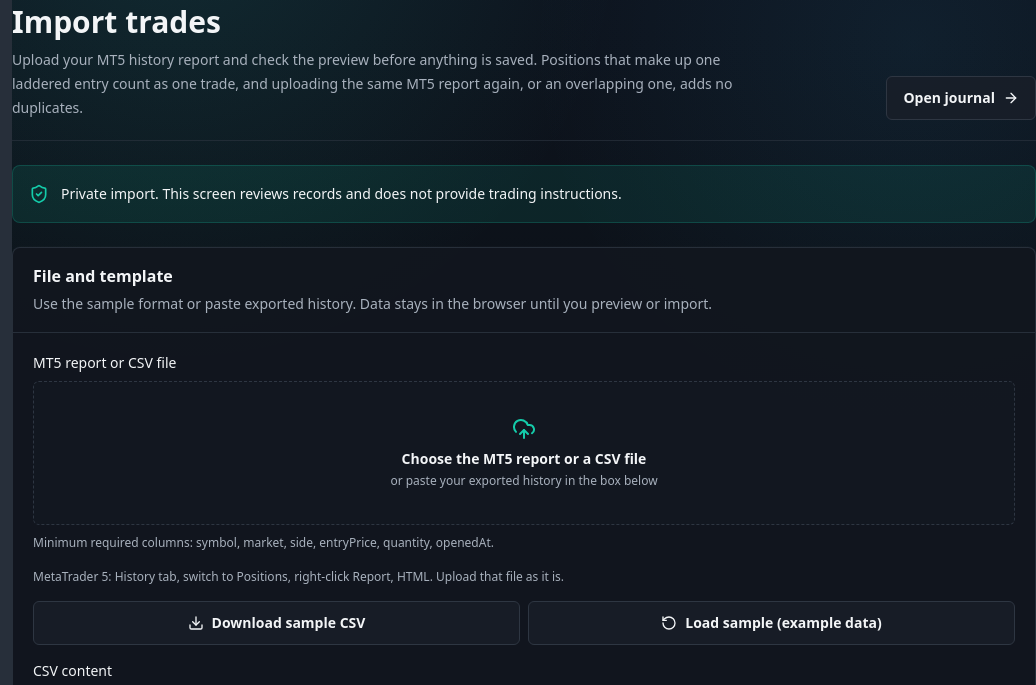
the import page in Persian › English: a server error says the import failed
This screenshot has width=1036, height=685.
Click the button "Load sample (example data)" at coordinates (772, 623), box [528,601,1015,645]
(page scrolled)
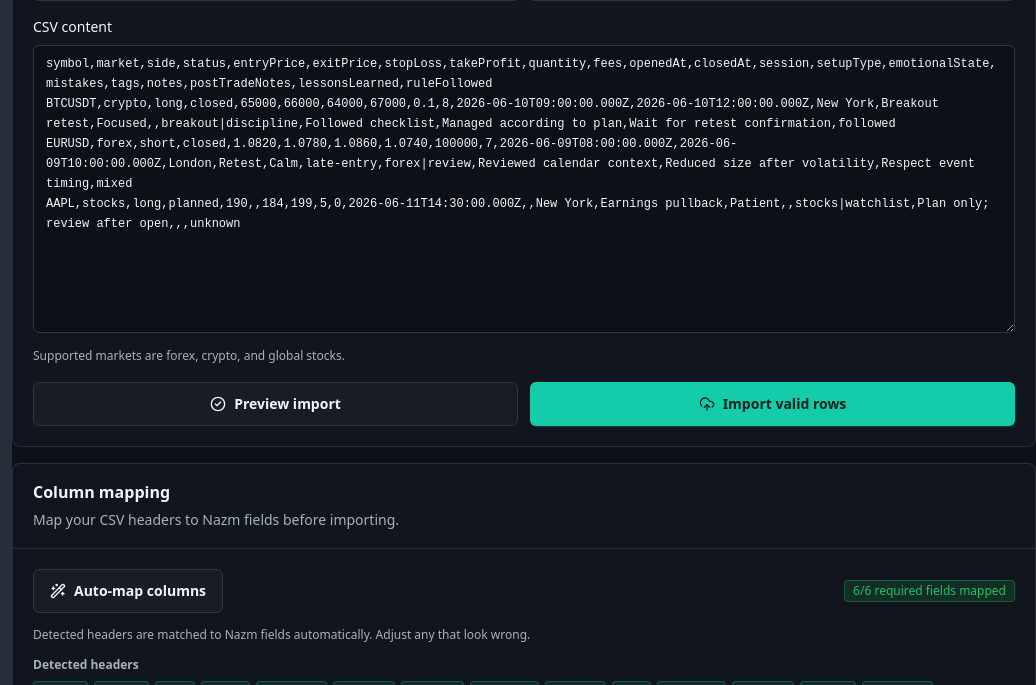
Click the button "Import valid rows" at coordinates (772, 404), box [530,382,1015,426]
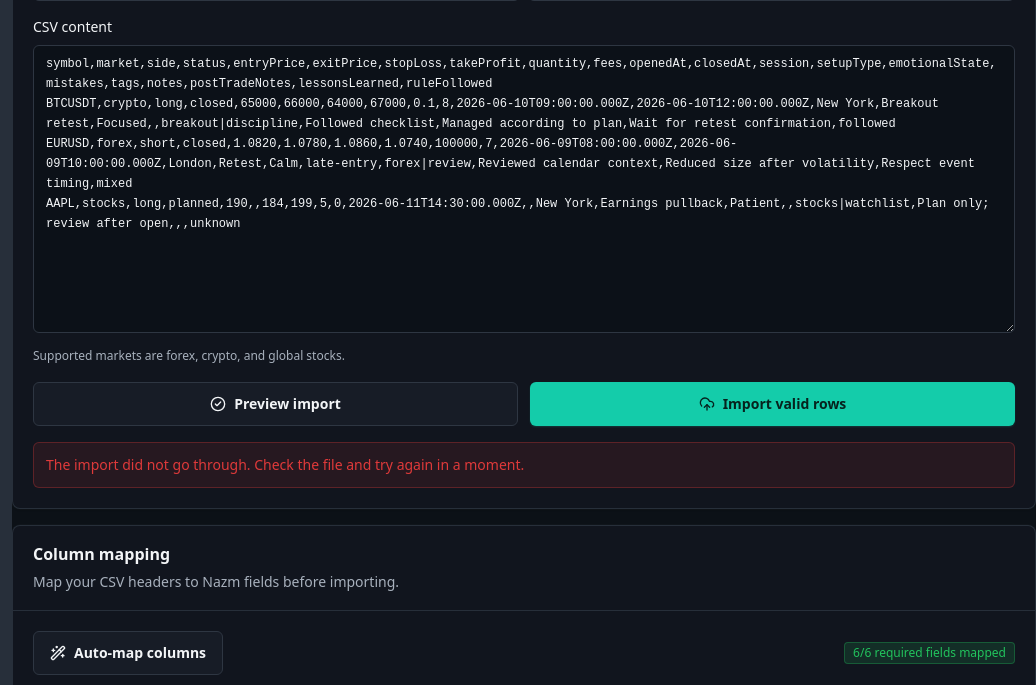
Check: the message shows "The import did not go through", box [46,455,524,474]
